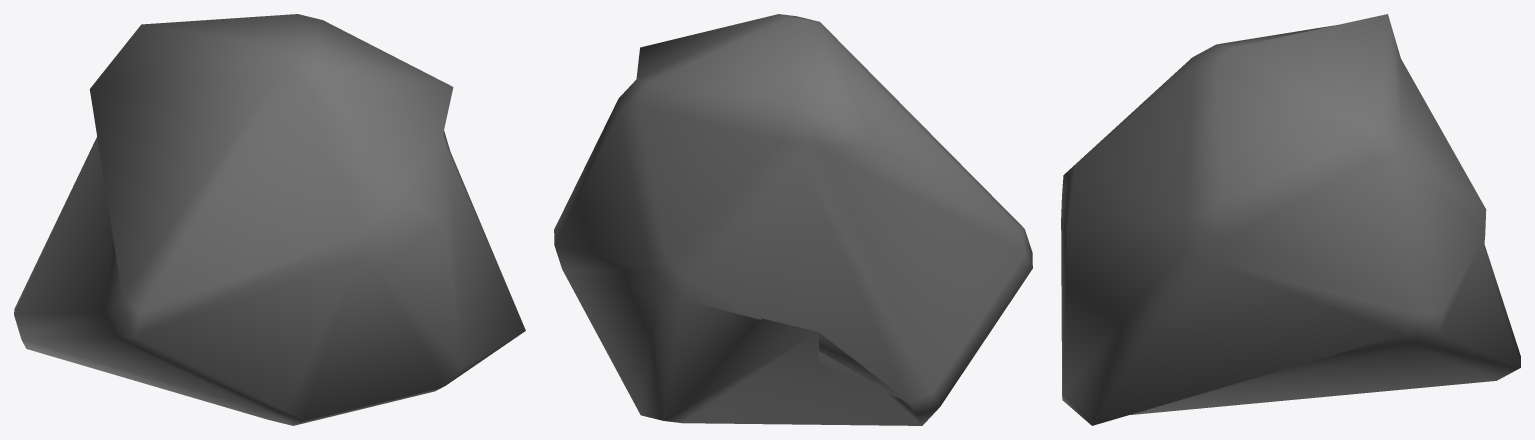
File: deformedRock-03_col.fbx
3 renders of one model, left to right at view 1: azimuth 30°, elevation 25°; view 2: azimuth 150°, elevation 25°; view 3: azimuth 270°, elevation 25°, orthographic. The views are drawn at different scales.
Parts seen in each view (by area): view 1: deformedRock-03.col; view 2: deformedRock-03.col; view 3: deformedRock-03.col.
Part boxes in pixels (box(x1,y1,x2,y2)): deformedRock-03.col: box(14, 14, 525, 425); deformedRock-03.col: box(554, 14, 1032, 425); deformedRock-03.col: box(1061, 14, 1520, 425).
Bounding box in the file's own units: 0.1505 × 0.1235 × 0.1491.
Materials: 1 (1 with a texture image).
